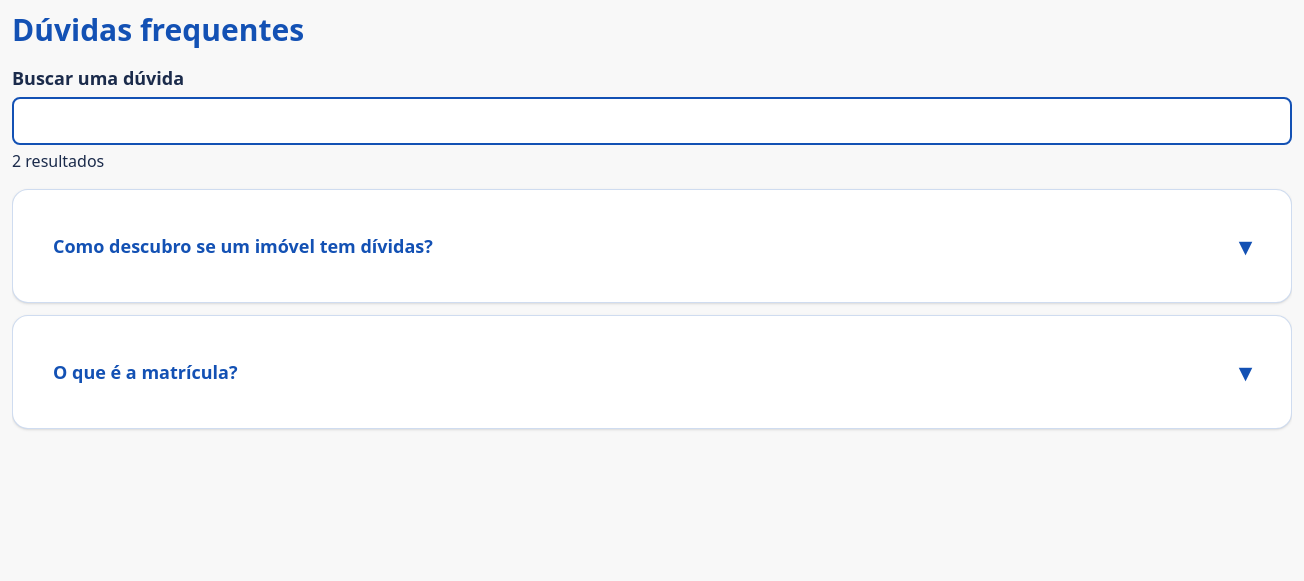
Scenario: Faq (4 estados de tela) › mostra a base legal quando existe
What coordinates should you click on to do the following:
click the button "Como descubro se um imóvel tem dívidas? ▾"
I would click on:
 (243, 246)
Its box is [37,214,1267,278].
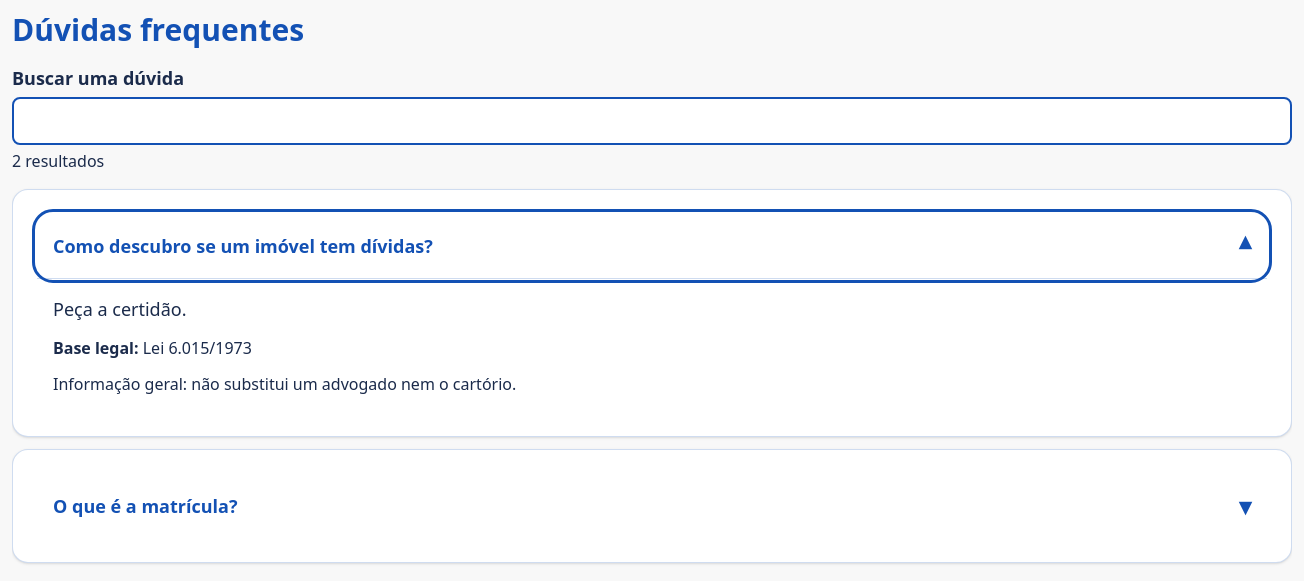
expect the text "Lei 6.015/1973" is shown: met, box [143,337,252,359]
